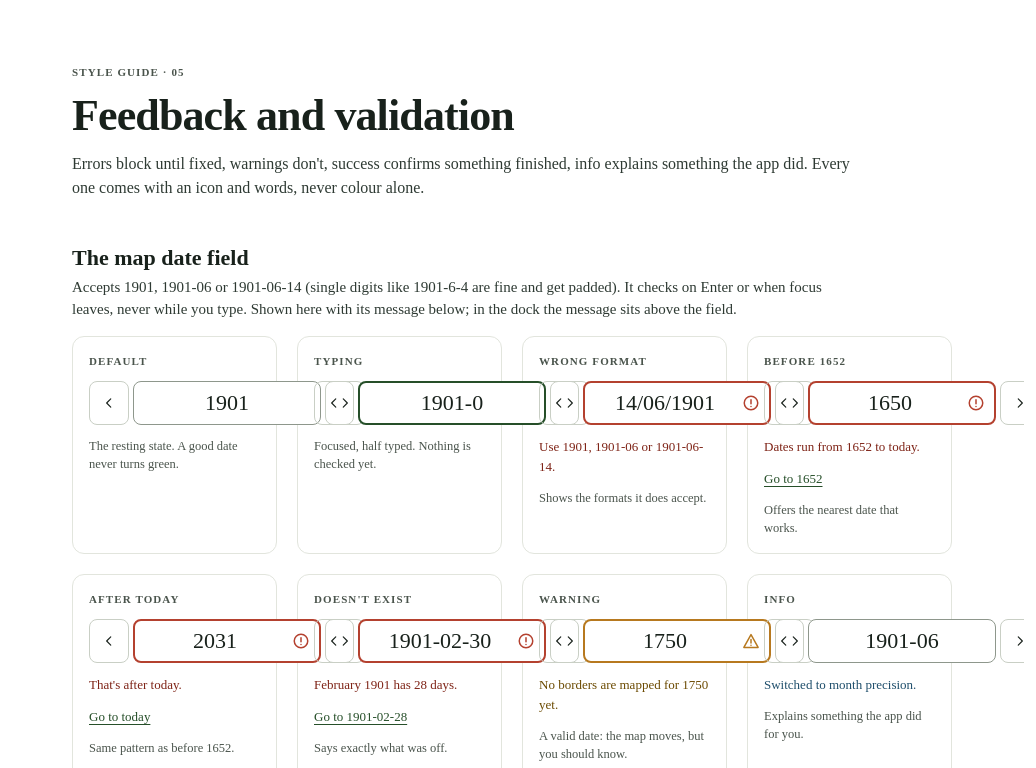
holds the last good date a card is given
Replace the text in the field named "Date shown" below "Default" with "1902-3" at (227, 403), box x1=146 y1=381 x2=308 y2=425
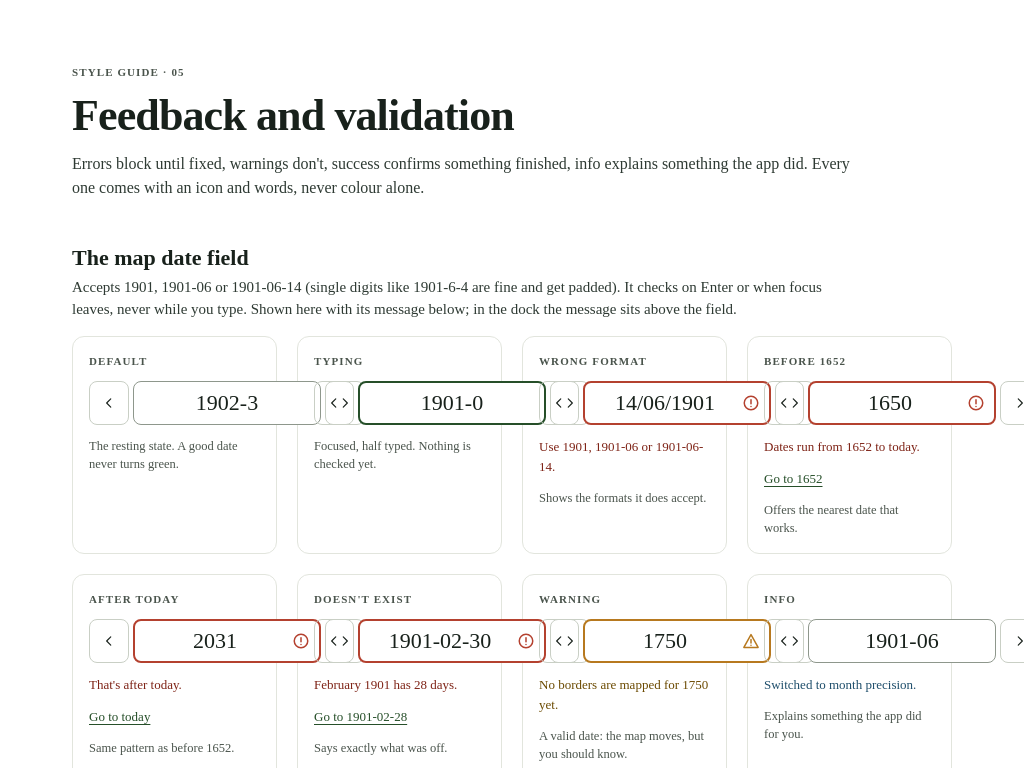
Press Enter in the field named "Date shown" below "Default", box x1=146 y1=381 x2=308 y2=425
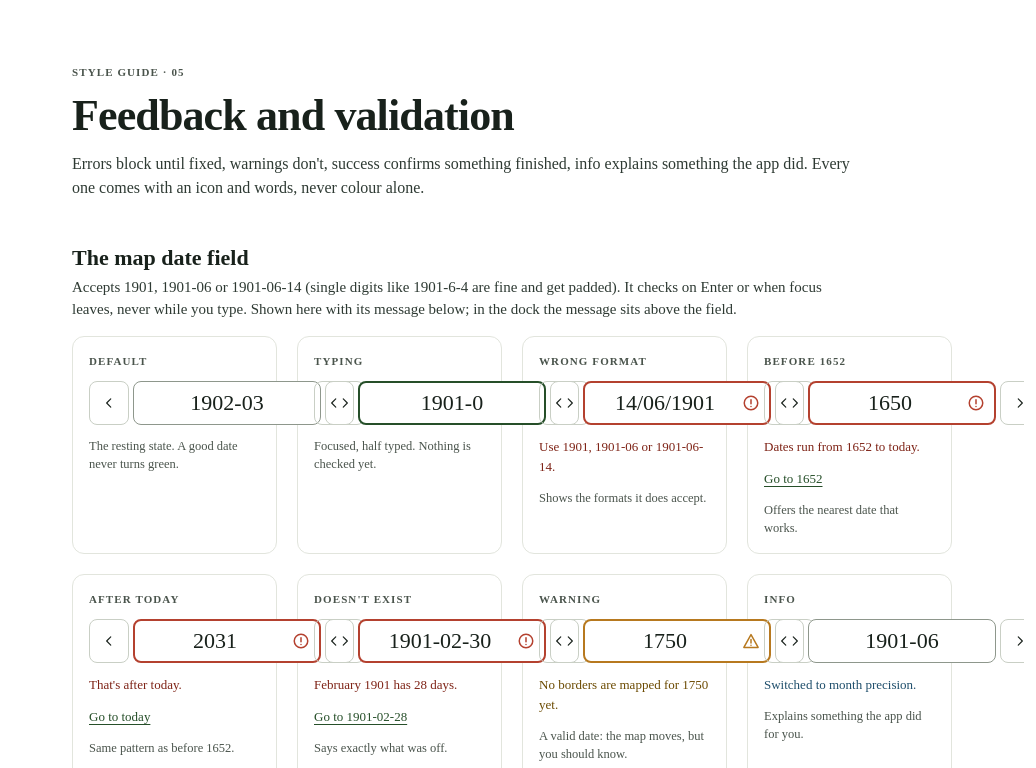
Expected: the field named "Date shown" below "Default" holds "1902-03"
Replace the text in the field named "Date shown" below "Default" with "1902-02-30" at (227, 403), box x1=146 y1=381 x2=308 y2=425
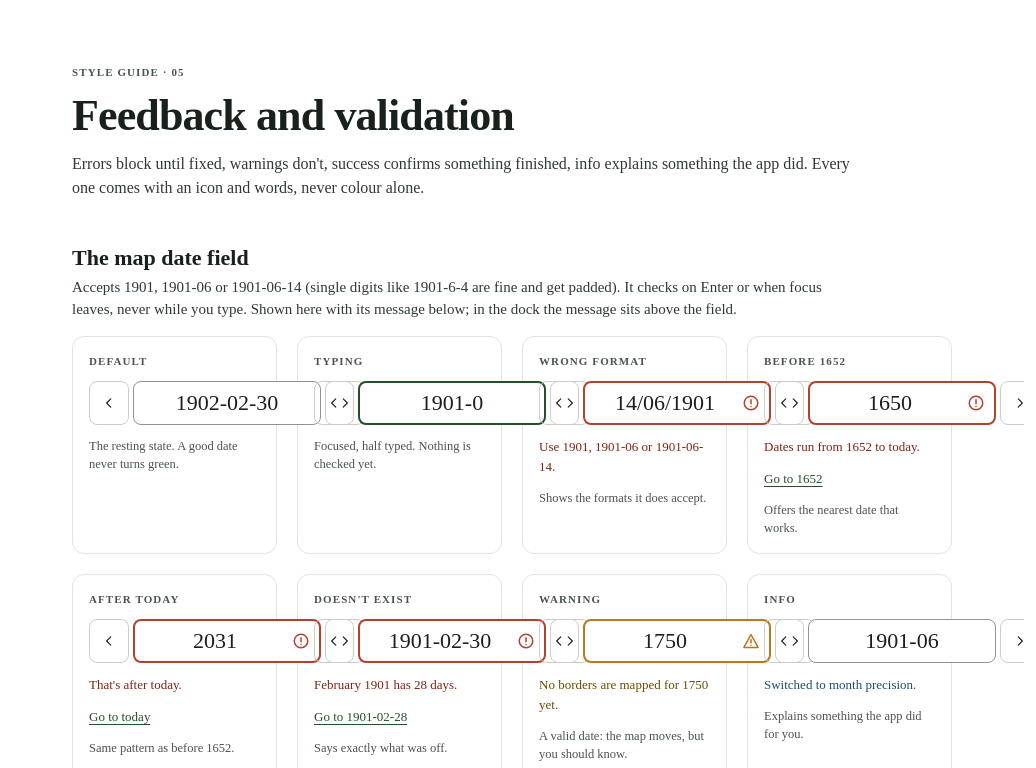
Press Enter in the field named "Date shown" below "Default", box x1=146 y1=381 x2=308 y2=425
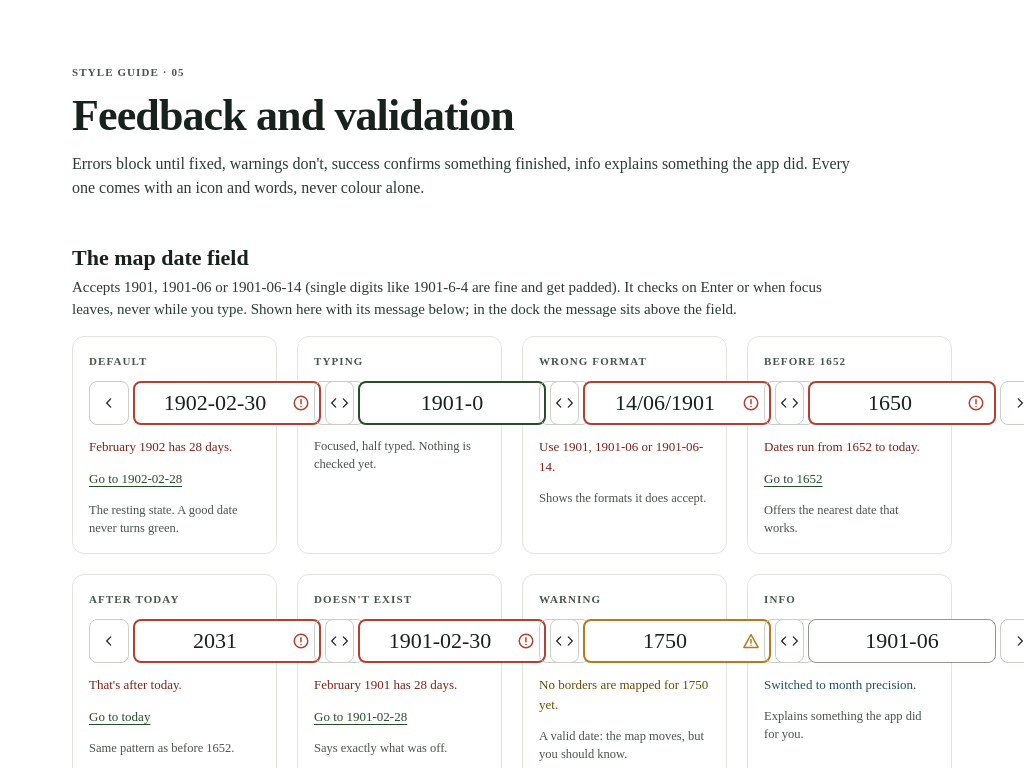
Press Escape in the field named "Date shown" below "Default", box x1=146 y1=382 x2=308 y2=424
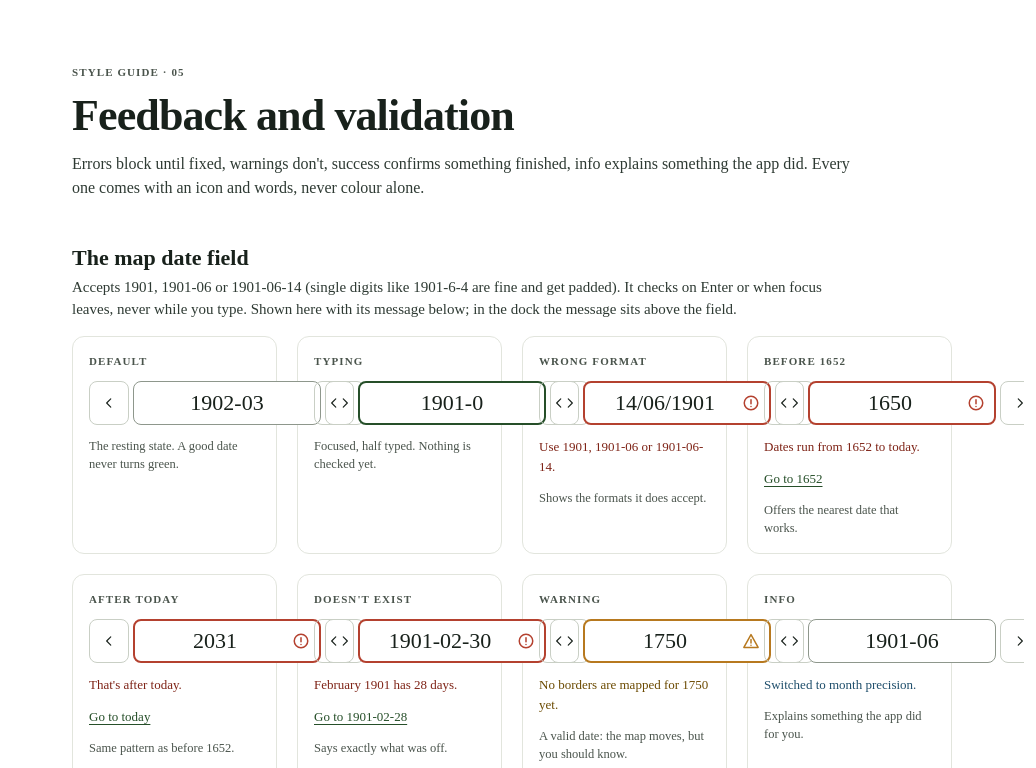
Expected: the field named "Date shown" below "Default" holds "1902-03", x1=146 y1=381 x2=308 y2=425
